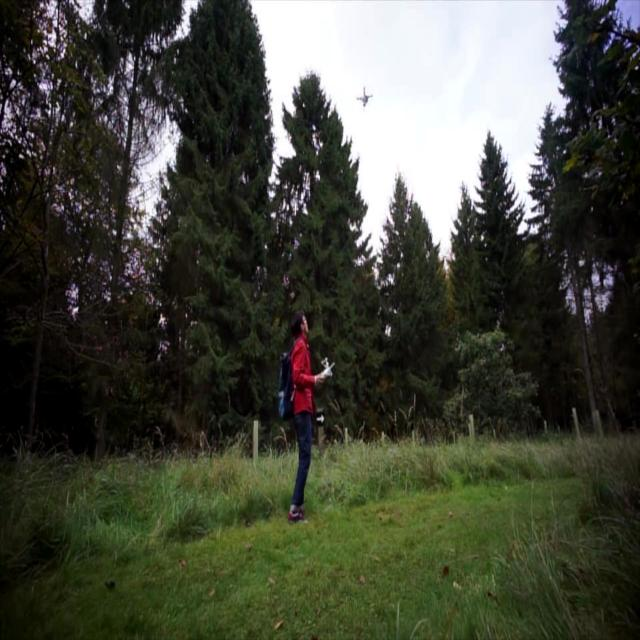drone: (353, 79, 376, 117)
